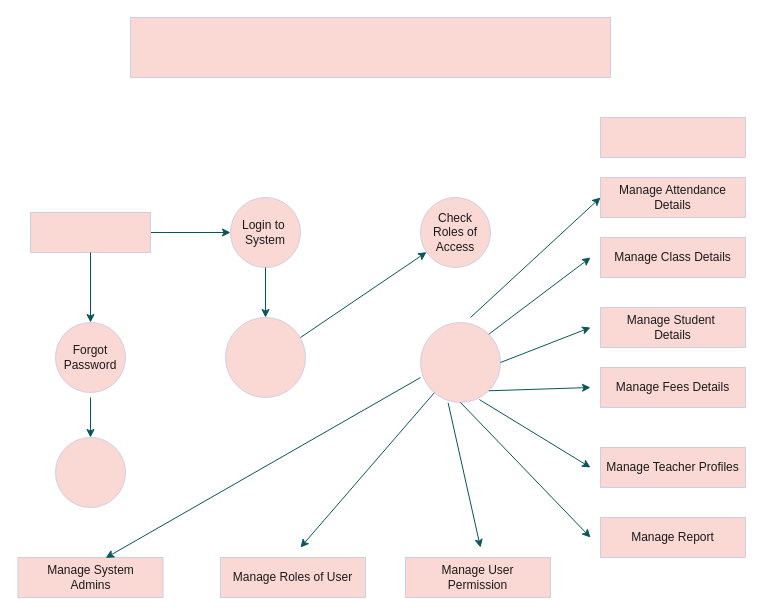
Image size: 763x615. Some labels were removed from this diagram. Here are the shapes that lost their labels. From the top down, the centre of each, then its label:
At [370,47]: "Student Infomaration System".
At [673,137]: "Manage Timetable Details".
At [90,232]: "Admin".
At [265,357]: "Check Credentials".
At [460,362]: "Manage Modules".
At [90,472]: "Send Email to User".
